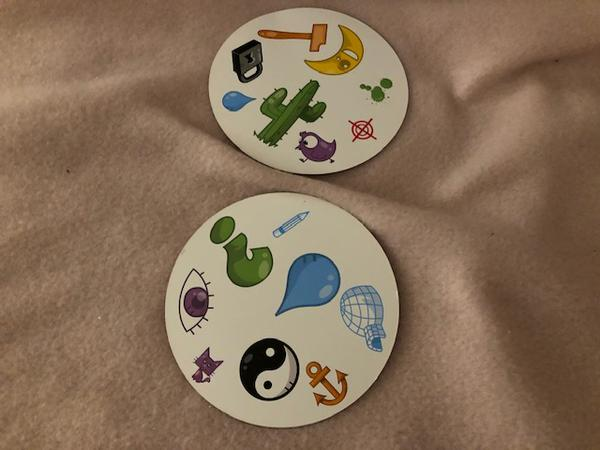ancre: (303, 357, 350, 410)
cactus: (252, 77, 327, 150)
cadenas: (227, 38, 265, 85)
chat: (187, 345, 226, 386)
cible: (345, 115, 379, 146)
crayon: (271, 206, 312, 242)
goutte: (275, 250, 339, 318), (218, 89, 254, 116)
igloo: (334, 278, 389, 357)
lune: (301, 24, 366, 78)
marteau: (257, 18, 332, 57)
oeuil: (173, 262, 216, 338)
oiseau: (291, 130, 341, 167)
point_interrogation: (207, 213, 273, 289)
tache: (356, 74, 396, 107)
ying_yang: (233, 337, 303, 405)
